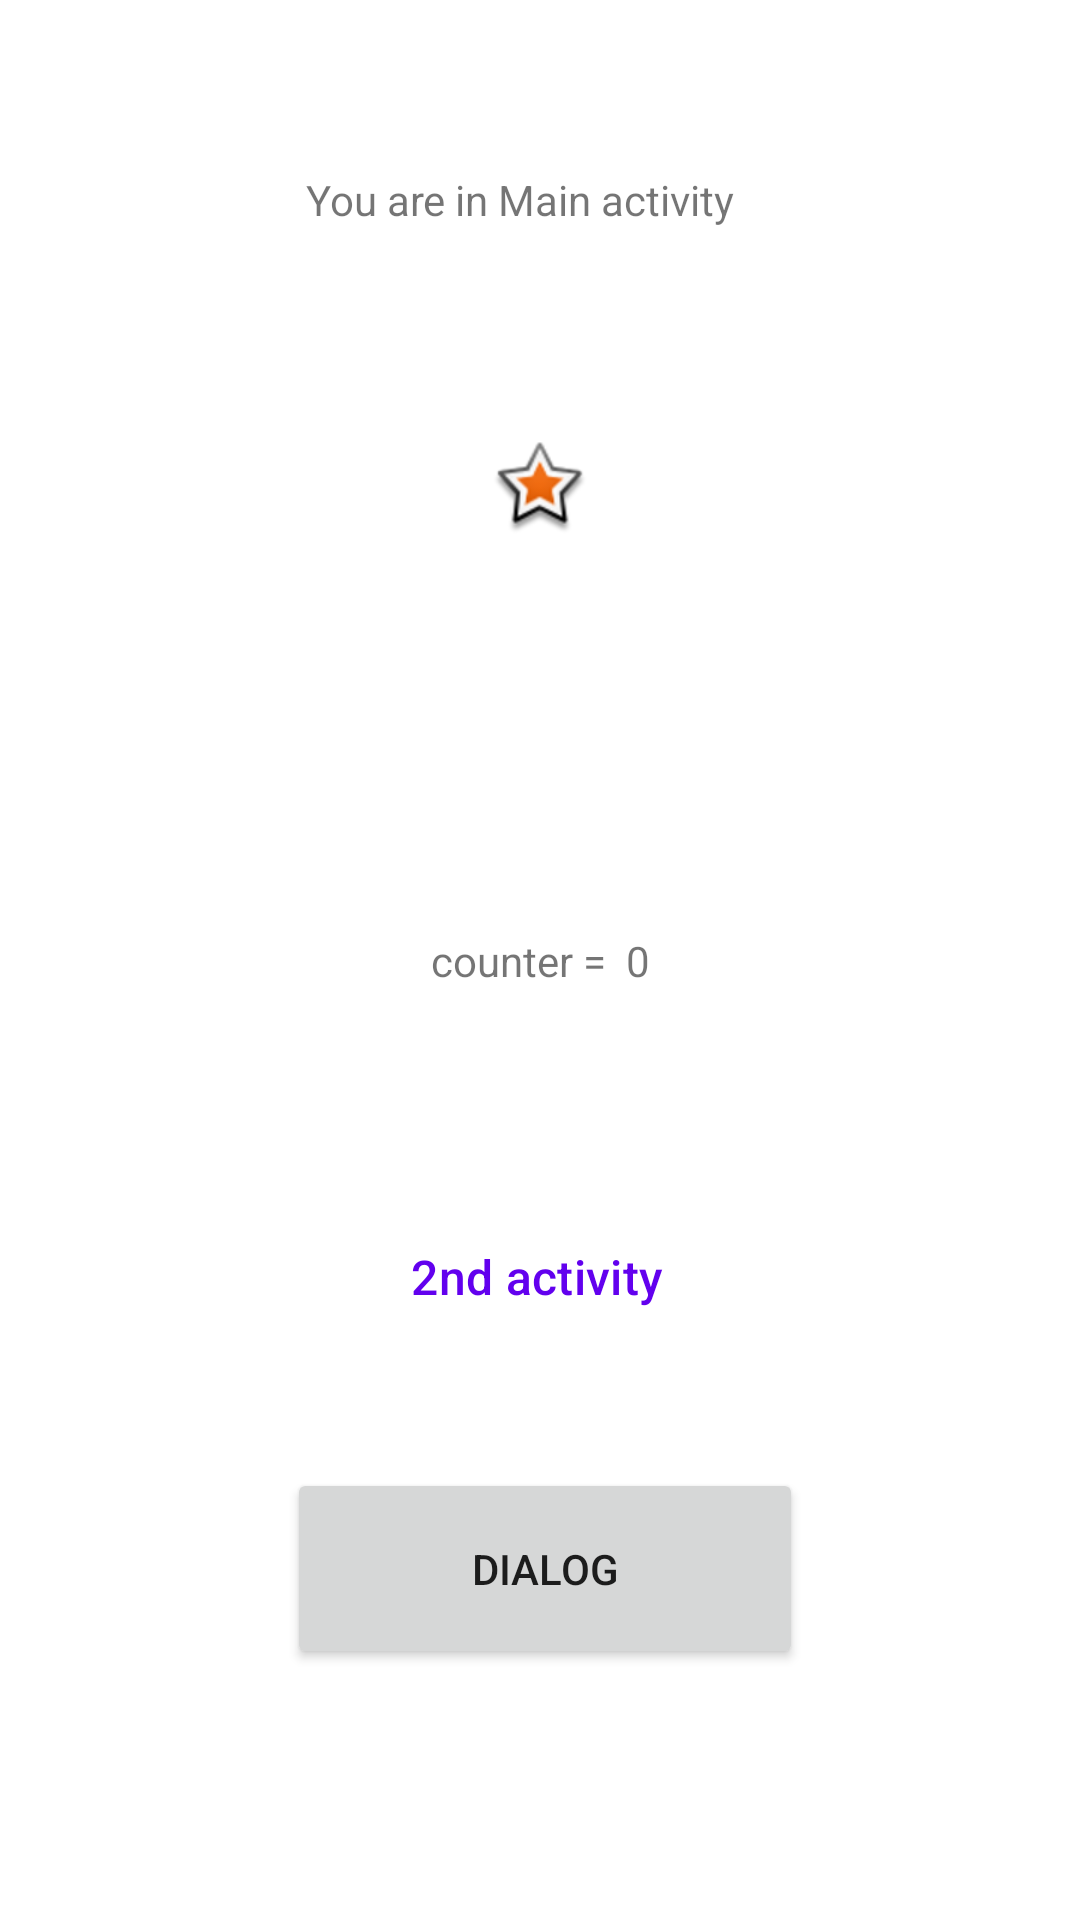

Point at icon controls on the screen. Image size 1080*1920, points as (x,y).
star on: (540,485)
